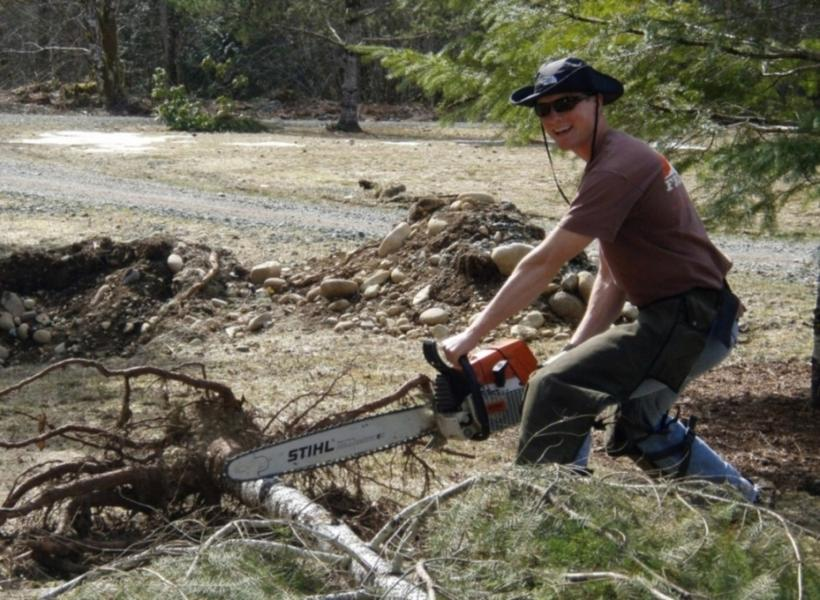person: (441, 56, 763, 510)
